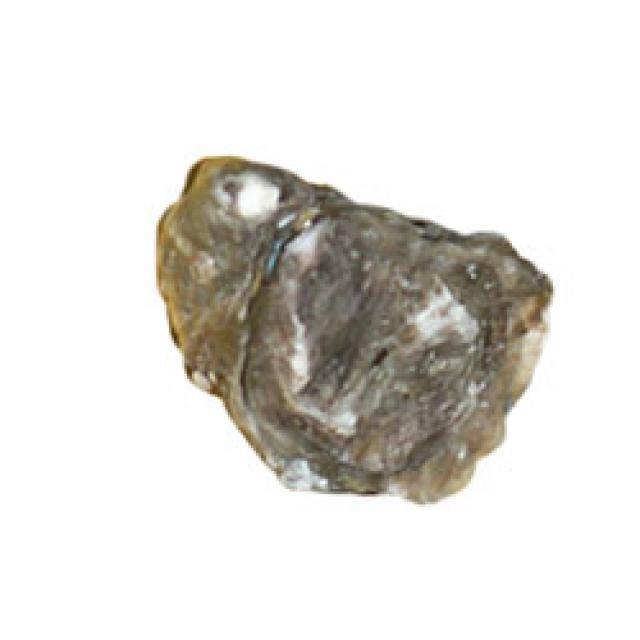Oyster- Indeterminate: (154, 156, 555, 507)
